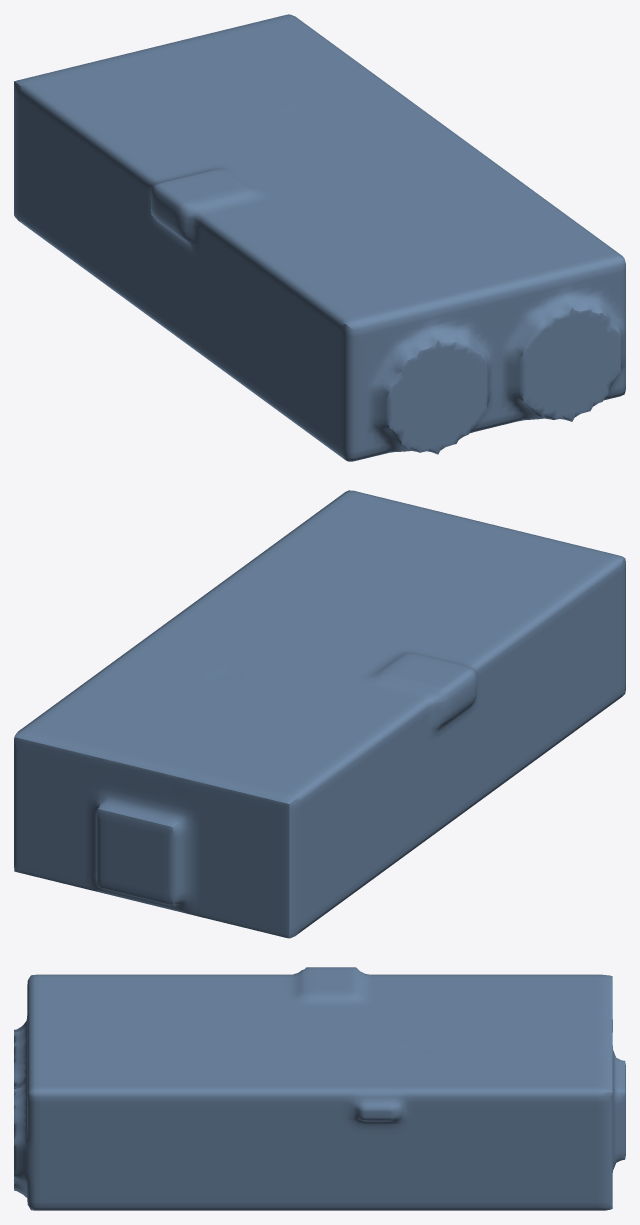
File: staff-recruiter-idle.glb
3 renders of one model, top to bottom at view 1: azimuth 30°, elevation 25°; view 2: azimuth 150°, elevation 25°; view 3: azimuth 270°, elevation 25°, orthographic. The views are drawn at different scales.
Parts seen in each view (by area): view 1: Leg_-1; view 2: Leg_-1; view 3: Leg_-1.
Boxes of the visible parts, bbox=[...] form: Leg_-1: bbox=[14, 14, 625, 461]; Leg_-1: bbox=[14, 490, 625, 938]; Leg_-1: bbox=[14, 967, 625, 1210].
Size of the model in its own units: 0.587 by 0.2787 by 1.2.
